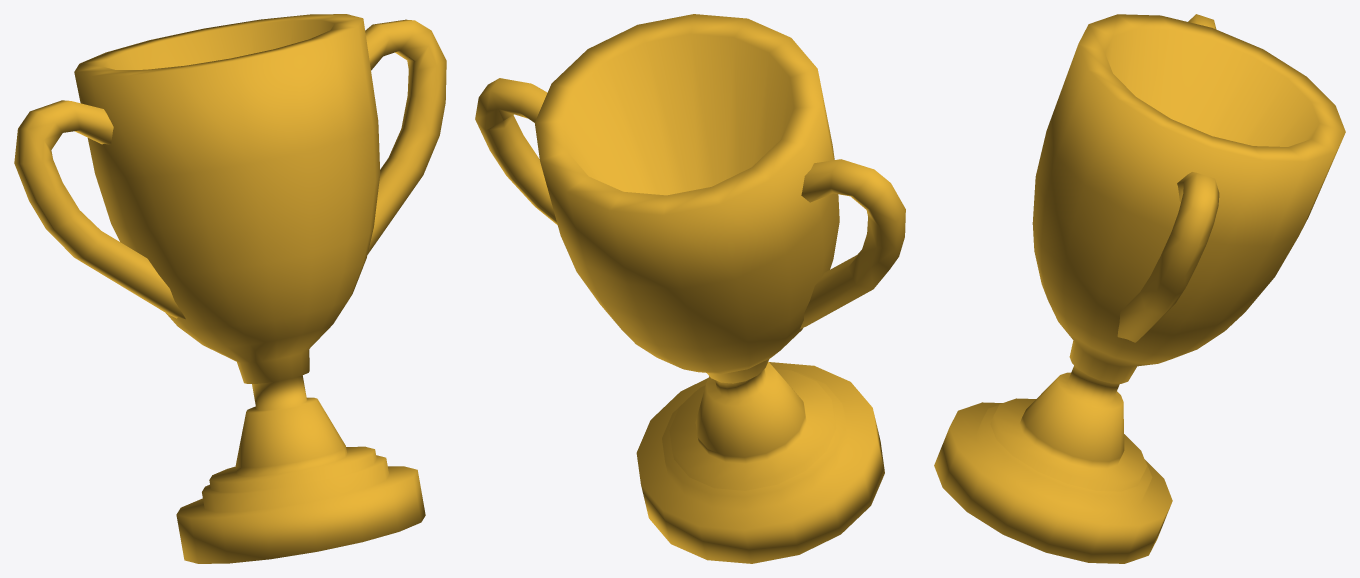
Rendered from competition_icon.glb.
3 renders of one model, left to right at view 1: azimuth 30°, elevation 25°; view 2: azimuth 150°, elevation 25°; view 3: azimuth 270°, elevation 25°, orthographic. The views are drawn at different scales.
Visible parts, largest first — view 1: cup; view 2: cup; view 3: cup.
Part boxes in pixels (box(x1,y1,x2,y2)): cup: box(14, 14, 446, 563); cup: box(475, 14, 905, 563); cup: box(934, 14, 1345, 563).
Size of the model in its own units: 1.4 by 1.63 by 1.22.
